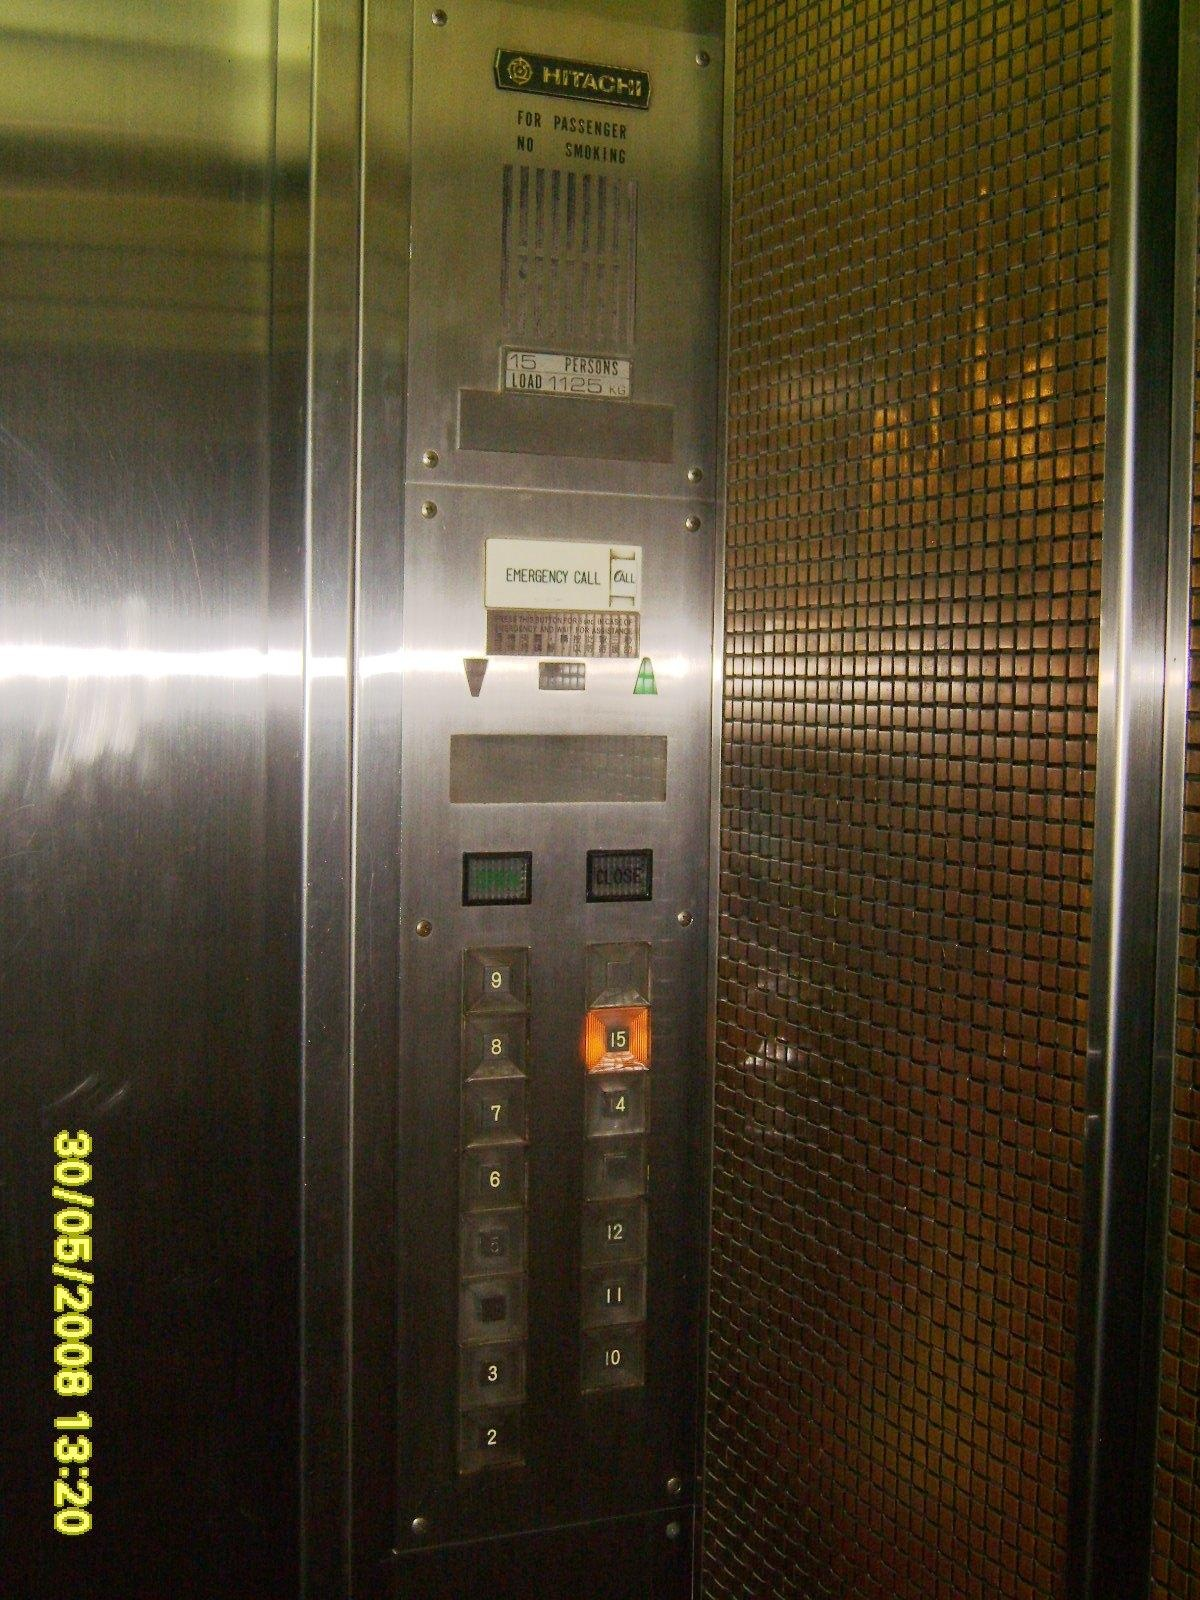10: (577, 1318, 650, 1395)
11: (577, 1260, 650, 1333)
12: (579, 1196, 650, 1272)
14: (579, 1071, 652, 1144)
15: (581, 1004, 654, 1077)
2: (455, 1400, 529, 1477)
3: (456, 1335, 531, 1414)
5: (456, 1211, 531, 1284)
6: (458, 1145, 531, 1220)
7: (458, 1080, 531, 1155)
8: (458, 1014, 532, 1089)
9: (458, 944, 532, 1019)
blur: (456, 1272, 531, 1347), (581, 939, 654, 1010), (579, 1133, 650, 1206)
text_blur: (461, 850, 533, 908)
text_close: (584, 848, 654, 905)
